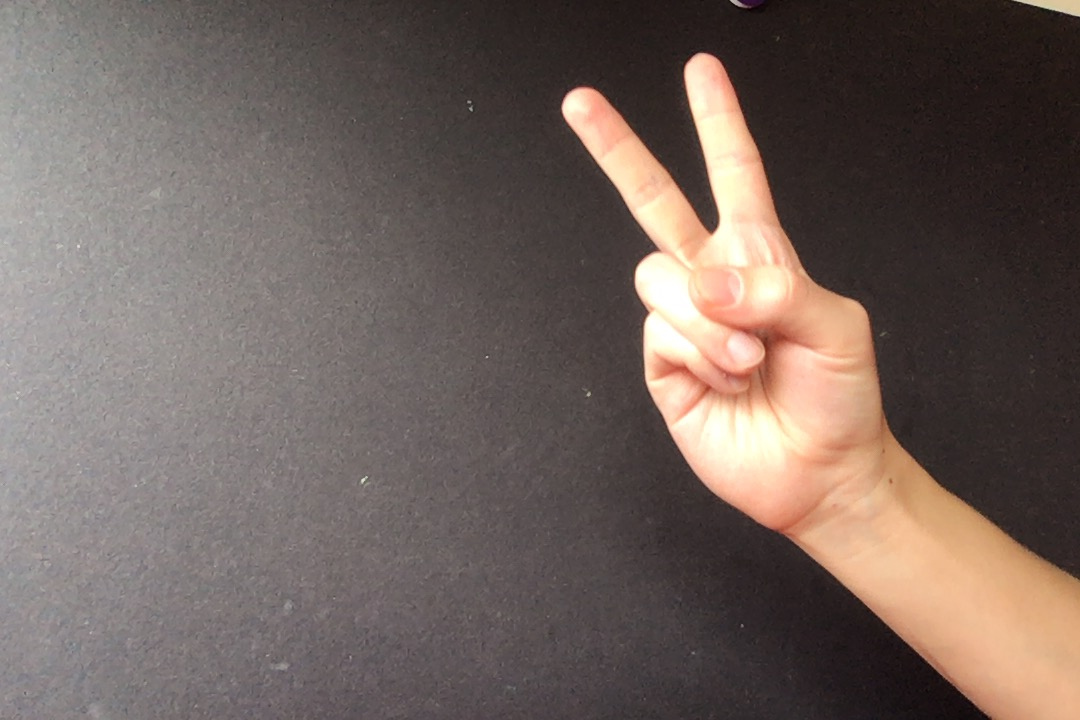peacesign: (553, 47, 890, 543)
